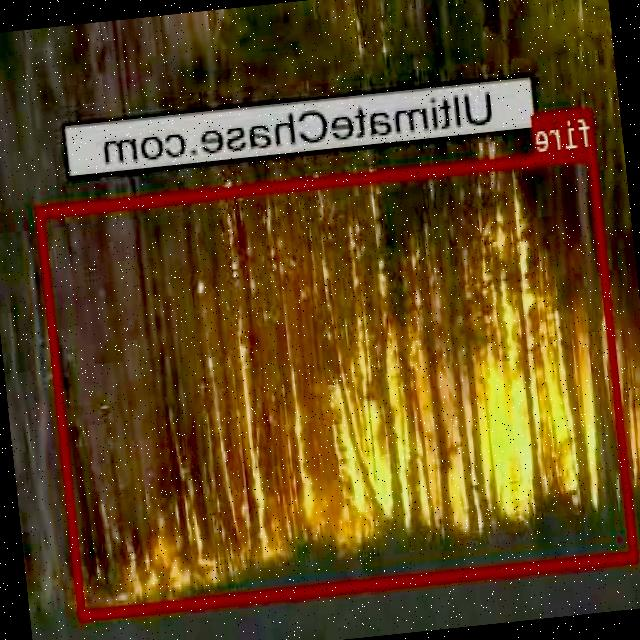fire: (36, 146, 640, 618)
